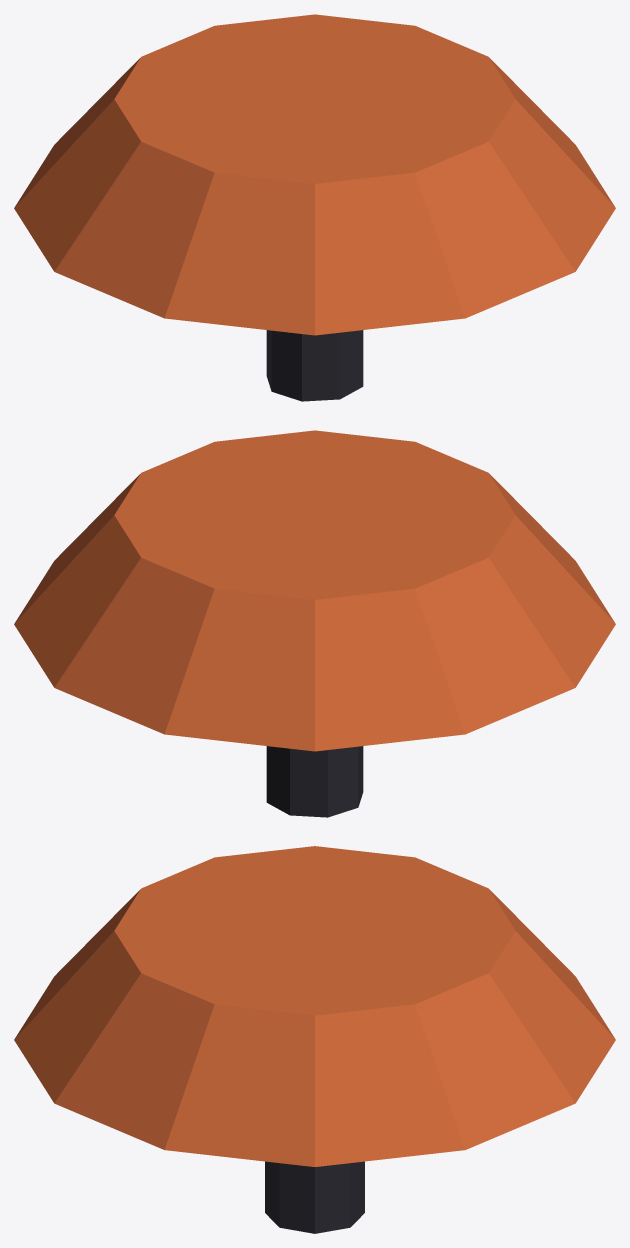
The model's file is kylix_cup.glb.
The picture shows the model from 3 angles, top to bottom: view 1: azimuth 30°, elevation 25°; view 2: azimuth 150°, elevation 25°; view 3: azimuth 270°, elevation 25°; orthographic projection.
Parts seen in each view (by area): view 1: kylix_cup; view 2: kylix_cup; view 3: kylix_cup.
Boxes of the visible parts, x1,y1,x2,y2 form: kylix_cup: (14,14,615,401); kylix_cup: (14,430,615,817); kylix_cup: (14,846,615,1233).
Bounding box in the file's own units: 0.6 × 0.31 × 0.6.
